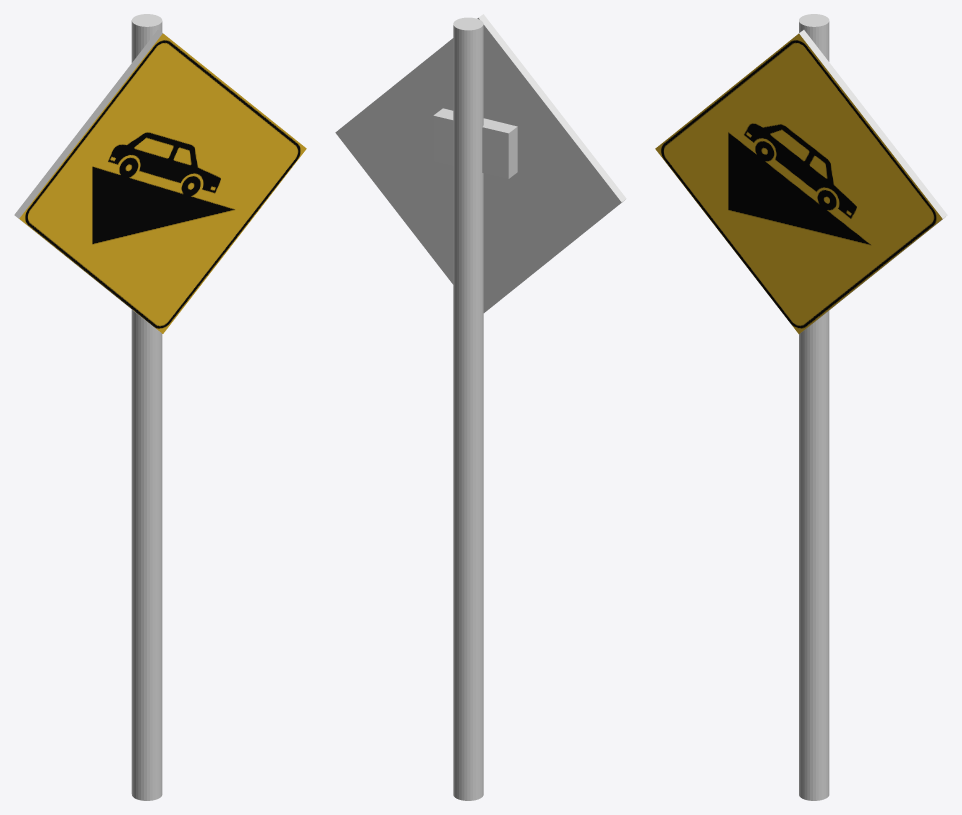
File: PeringJalanTurun.fbx
3 views of the same model, side by side, from view 1: azimuth 30°, elevation 25°; view 2: azimuth 150°, elevation 25°; view 3: azimuth 330°, elevation 25° (orthographic).
Parts seen in each view (by area): view 1: Cube.002, Cylinder.002; view 2: Cube.002, Cylinder.002, Cube.001; view 3: Cube.002, Cylinder.002.
Boxes of the visible parts, bbox=[...] form: Cube.002: bbox=[14, 30, 306, 333]; Cylinder.002: bbox=[131, 14, 162, 800]; Cube.002: bbox=[335, 14, 626, 312]; Cylinder.002: bbox=[453, 17, 483, 800]; Cube.001: bbox=[433, 108, 517, 178]; Cube.002: bbox=[655, 30, 947, 333]; Cylinder.002: bbox=[799, 14, 829, 800].
Bounding box in the file's own units: 283 × 727 × 39.46.
Materials: 2 (1 with a texture image).
